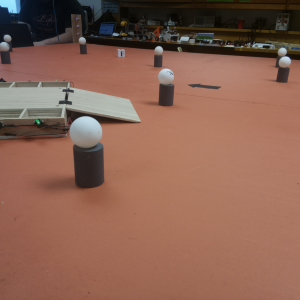blockF: (118, 47, 126, 59)
corner: (71, 12, 83, 44)
obstacle: (72, 116, 105, 188), (156, 68, 175, 104), (276, 57, 293, 84), (153, 44, 163, 67), (1, 43, 10, 65), (277, 47, 286, 63), (78, 36, 86, 54), (3, 35, 13, 49)
side: (1, 116, 65, 140)
slope: (68, 85, 142, 129)
start: (187, 79, 222, 94)
